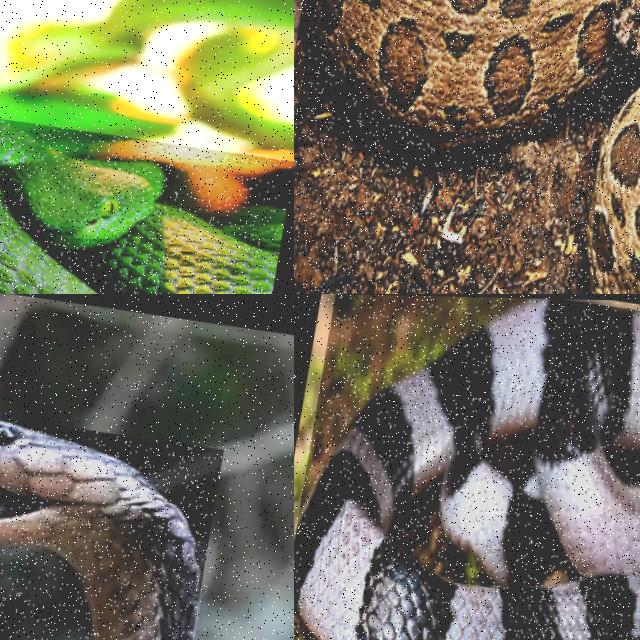Bungarus candidus: (294, 299, 639, 639)
Daboia siamensis: (308, 0, 639, 150)
Naja kaouthia: (0, 420, 199, 639)
Trimeresurus macrops: (0, 123, 277, 293)
